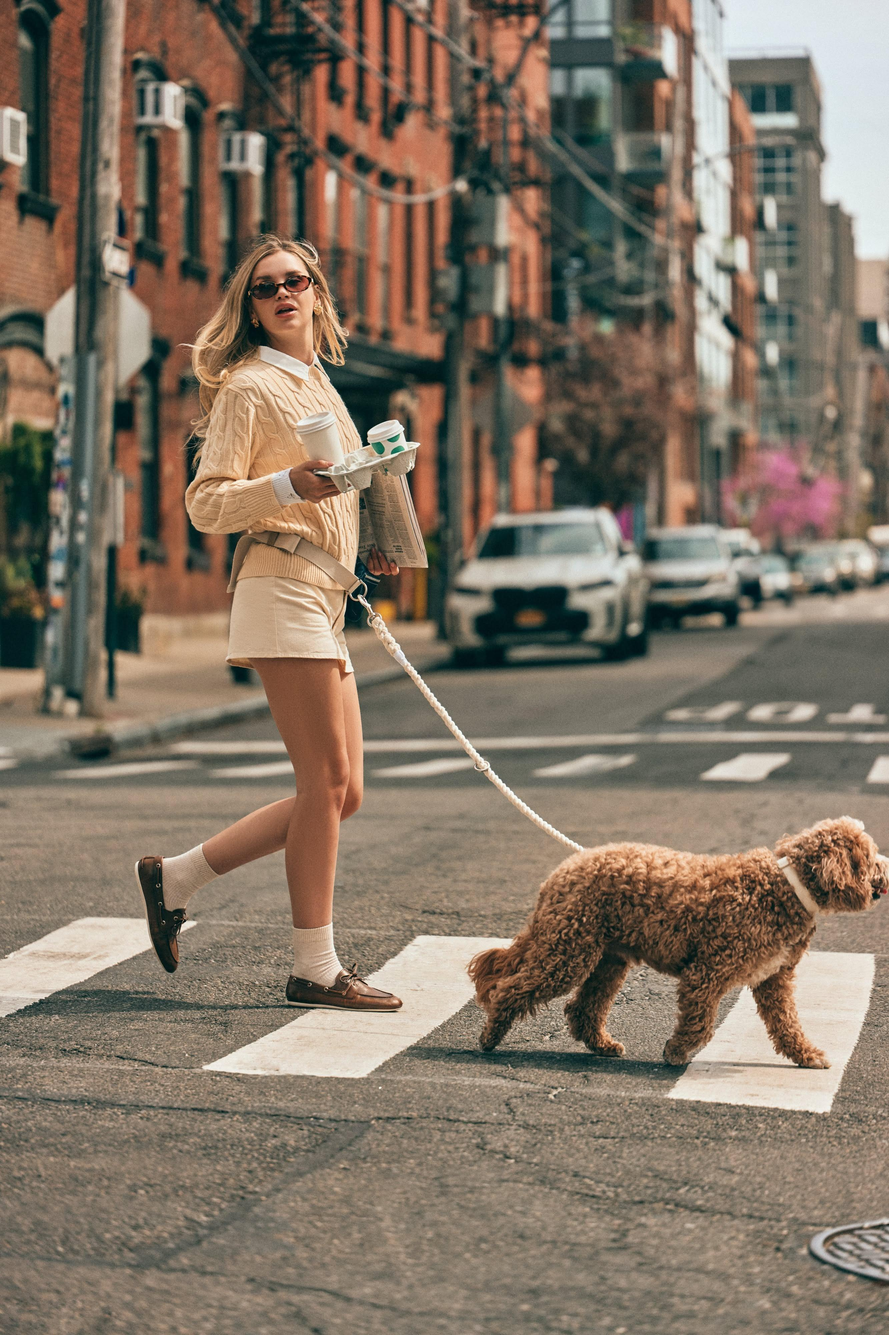adult_dog: (466, 816, 889, 1072)
non-dog: (136, 235, 404, 1014)
